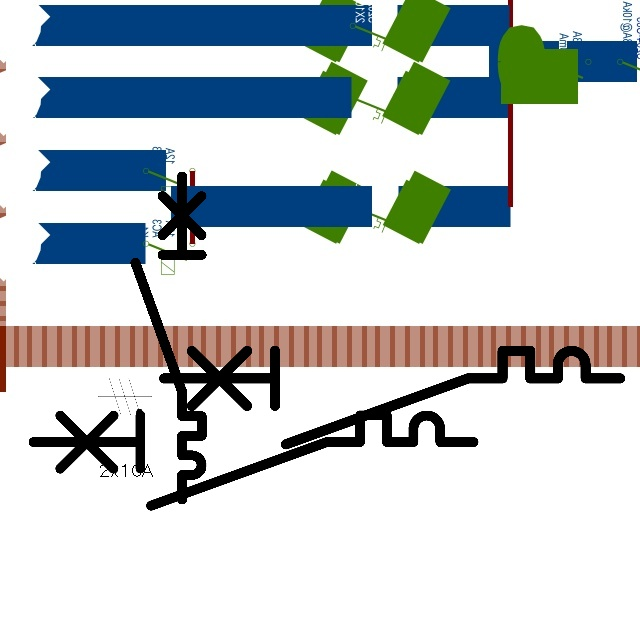interruptor_termomagnetico: (152, 339, 632, 456), (22, 404, 485, 517), (127, 168, 210, 508)
